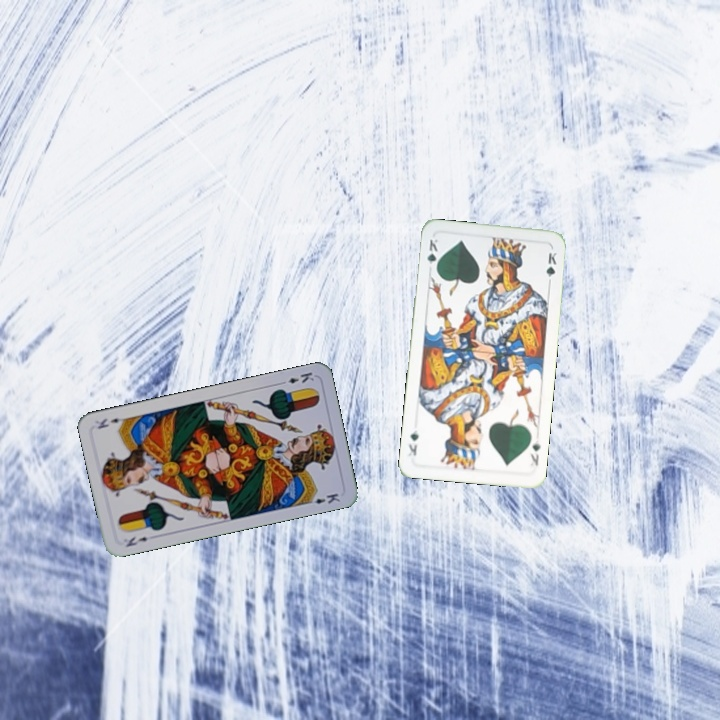EK: (276, 368, 317, 387), (122, 532, 150, 550)
GK: (423, 235, 440, 274), (526, 435, 543, 468)
